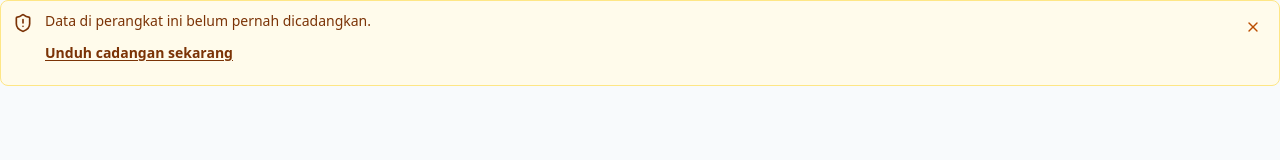
Test: BackupReminderBanner › reminds when this device never made a backup and disappears after downloading one
Expected: the text "Data di perangkat ini belum pernah dicadangkan." is shown, [45,11,371,30]
Click the button "Unduh cadangan sekarang" at (139, 53), box [37,31,241,75]
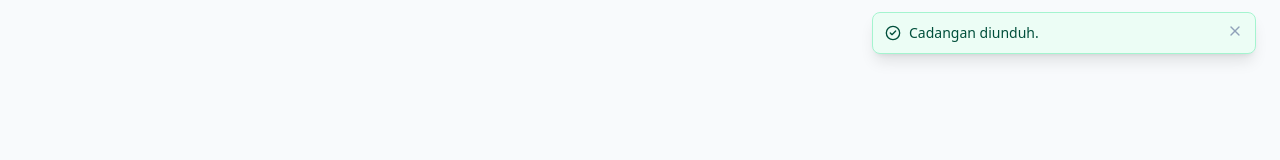
Now the text "belum pernah dicadangkan" is gone
